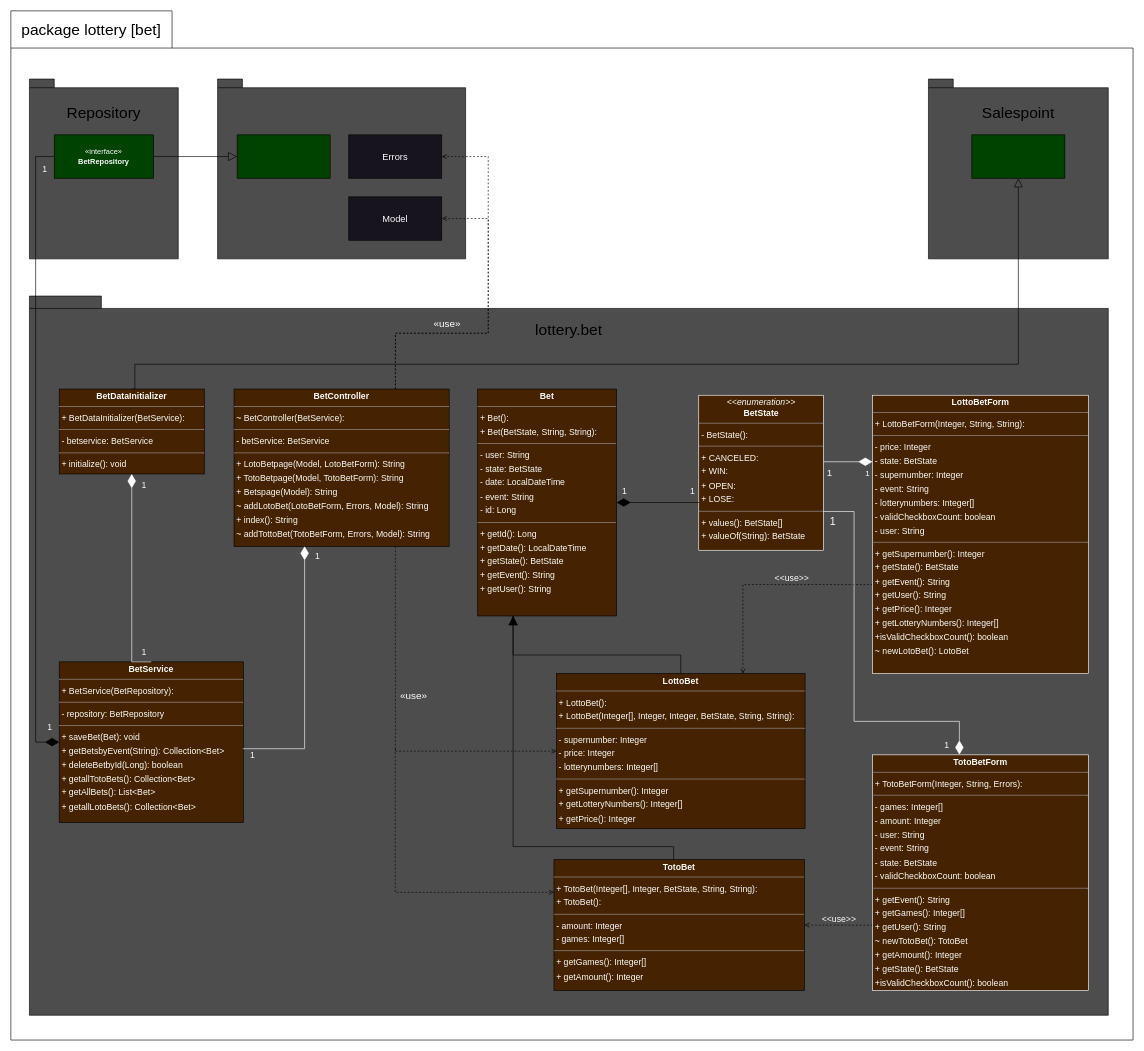
Image size: 1144x1051. Some labels were removed from this diagram. Here are the shapes that lost their labels. From the top down, the box of each, then its label:
(237, 134, 330, 178): «interface» JpaRepository
(217, 78, 466, 259): Spring
(971, 134, 1065, 178): «interface» DataInitializer
